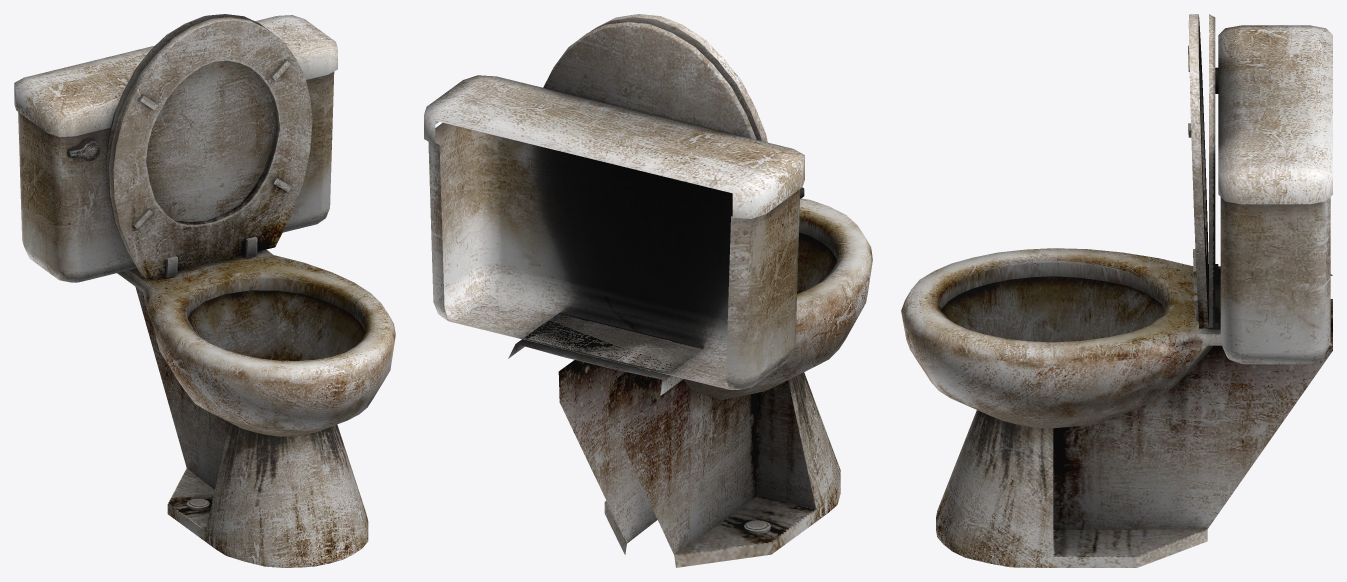
Rendered from Pan01.FBX.
3 renders of one model, left to right at view 1: azimuth 30°, elevation 25°; view 2: azimuth 150°, elevation 25°; view 3: azimuth 270°, elevation 25°, orthographic. The views are drawn at different scales.
Parts seen in each view (by area): view 1: SM_Pan01; view 2: SM_Pan01; view 3: SM_Pan01.
Part boxes in pixels (bbox=[...]): SM_Pan01: bbox=[14, 14, 395, 567]; SM_Pan01: bbox=[424, 14, 872, 567]; SM_Pan01: bbox=[901, 14, 1332, 567].
Size of the model in its own units: 71.35 by 108 by 83.56.
Materials: 1 (1 with a texture image).
